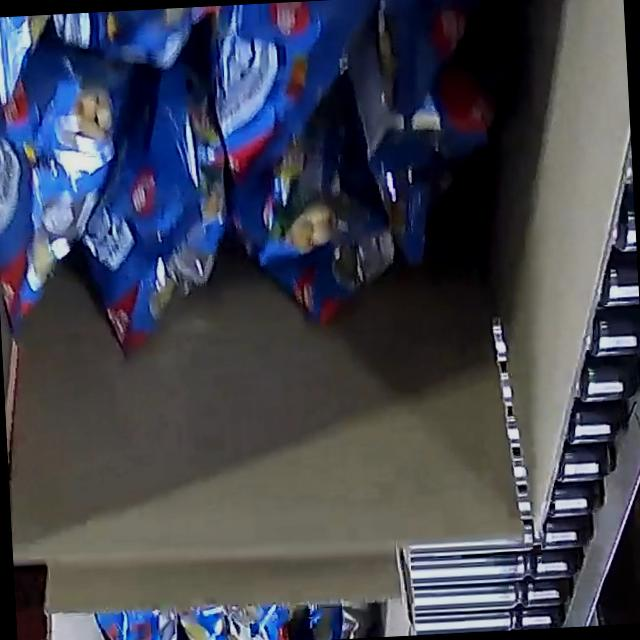paprika: (0, 0, 592, 364), (92, 596, 369, 640)
